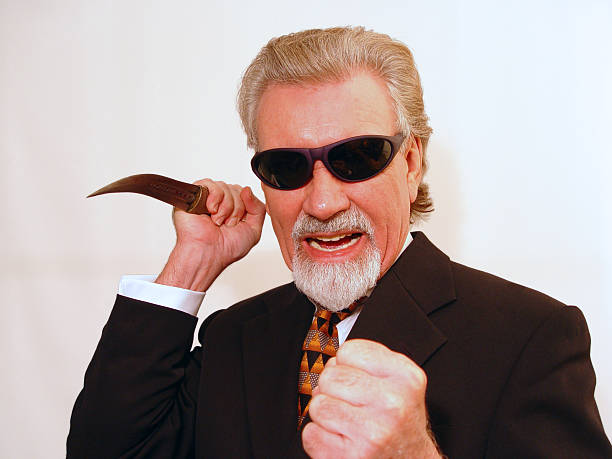knife: (85, 172, 210, 217)
